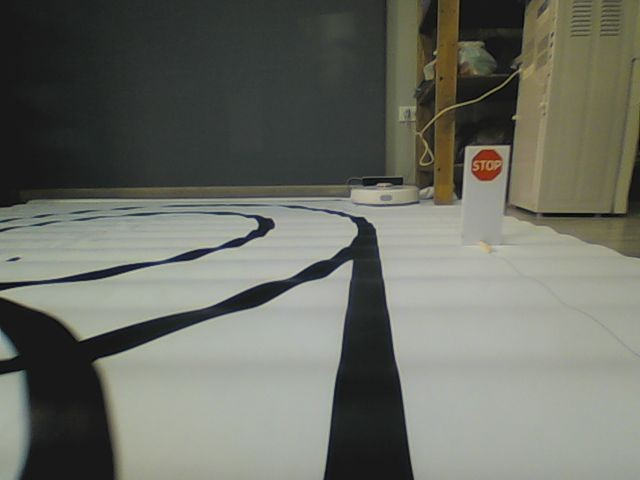Stop: (467, 150, 505, 182)
